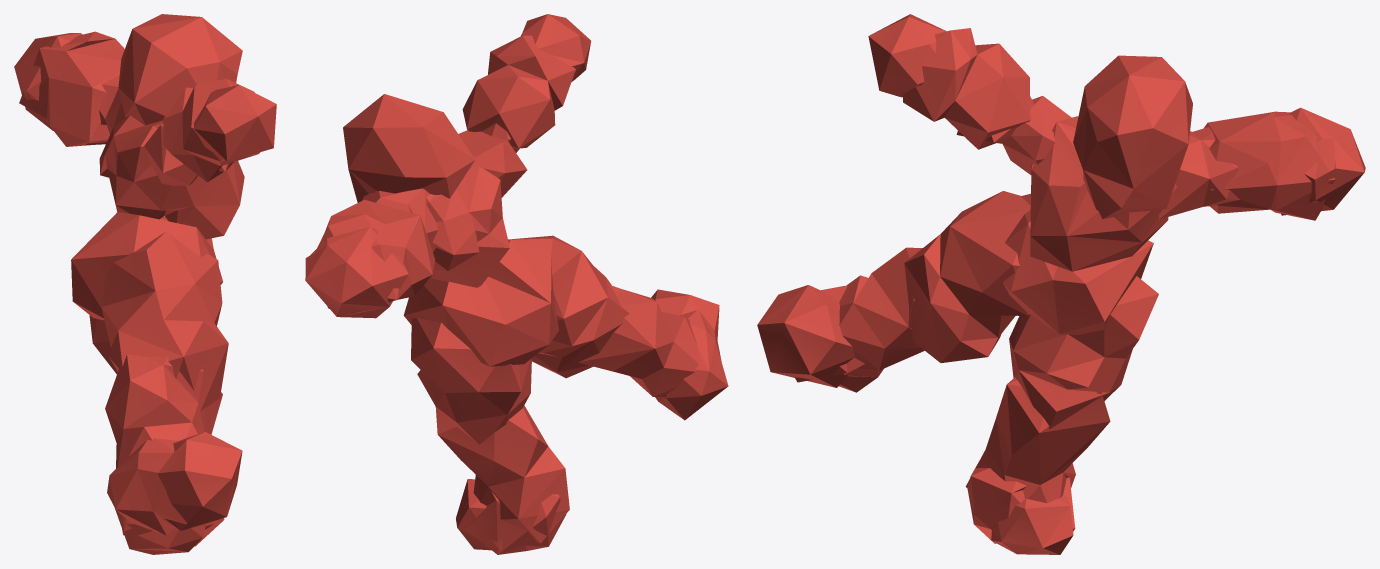
File: dance_frames0342.obj
The picture shows the model from 3 angles, left to right: view 1: azimuth 30°, elevation 25°; view 2: azimuth 150°, elevation 25°; view 3: azimuth 270°, elevation 25°; orthographic projection. The views are drawn at different scales.
Visible parts, largest first — view 1: Beta_Surface; view 2: Beta_Surface; view 3: Beta_Surface.
Boxes of the visible parts, x1,y1,x2,y2 form: Beta_Surface: (14,14,276,554); Beta_Surface: (305,14,728,554); Beta_Surface: (757,14,1365,554).
Bounding box in the file's own units: 1.09 × 2.06 × 2.1.
